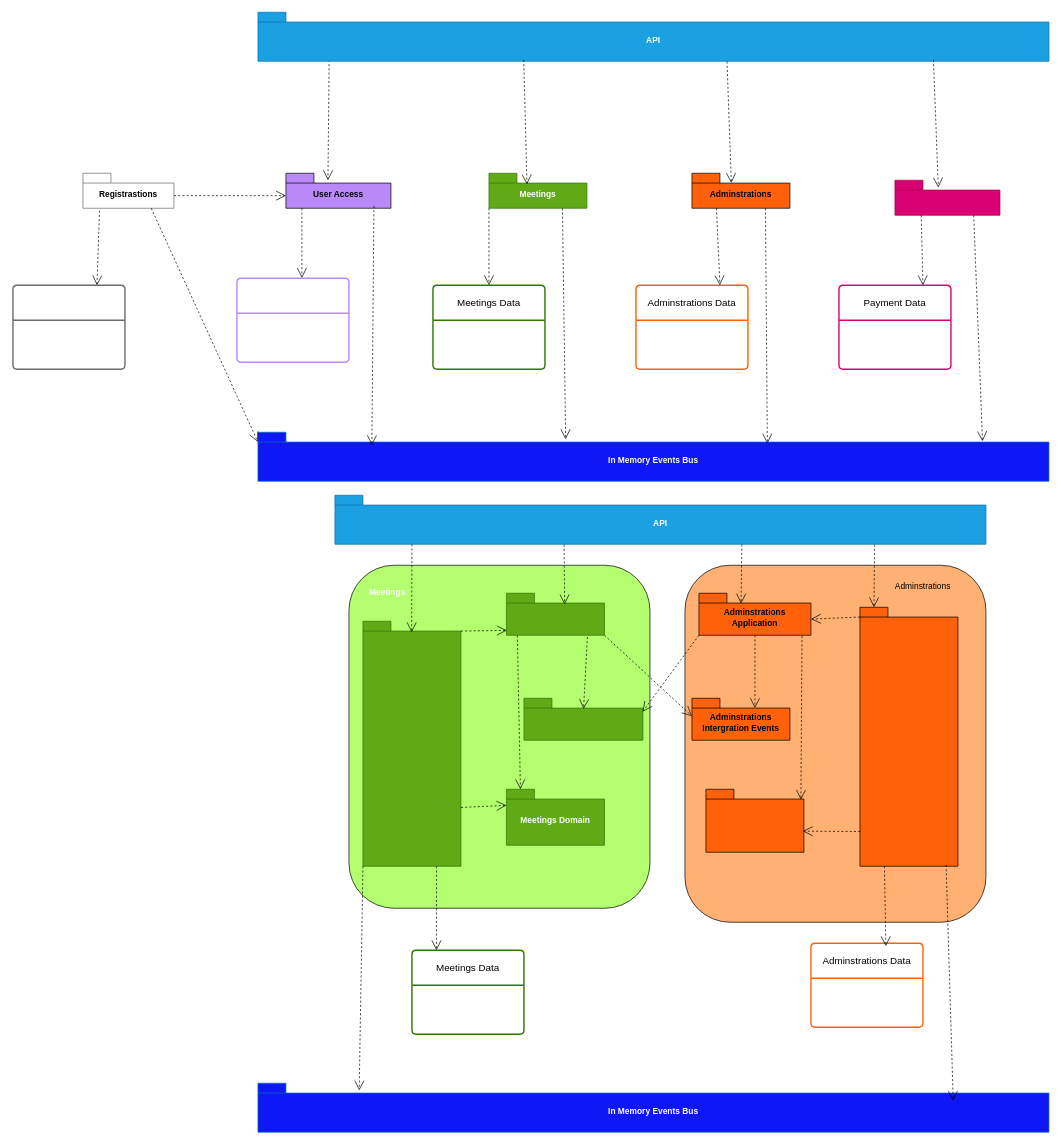
The diagram is 1061 pixels wide and 1145 high, and some of its shapes have lost their labels. The centre of each missing label's shape, as x and y in pixels:
Adminstrations Domain: the point at 754,820
Adminstrations Infrastructure: the point at 908,736
Meetings Application: the point at 555,614
Meetings Infrastucture: the point at 411,743
Meetings Integration Events: the point at 583,719
Payments: the point at 947,197
Regisstrations Data: the point at 68,327
User Access Data: the point at 292,320
